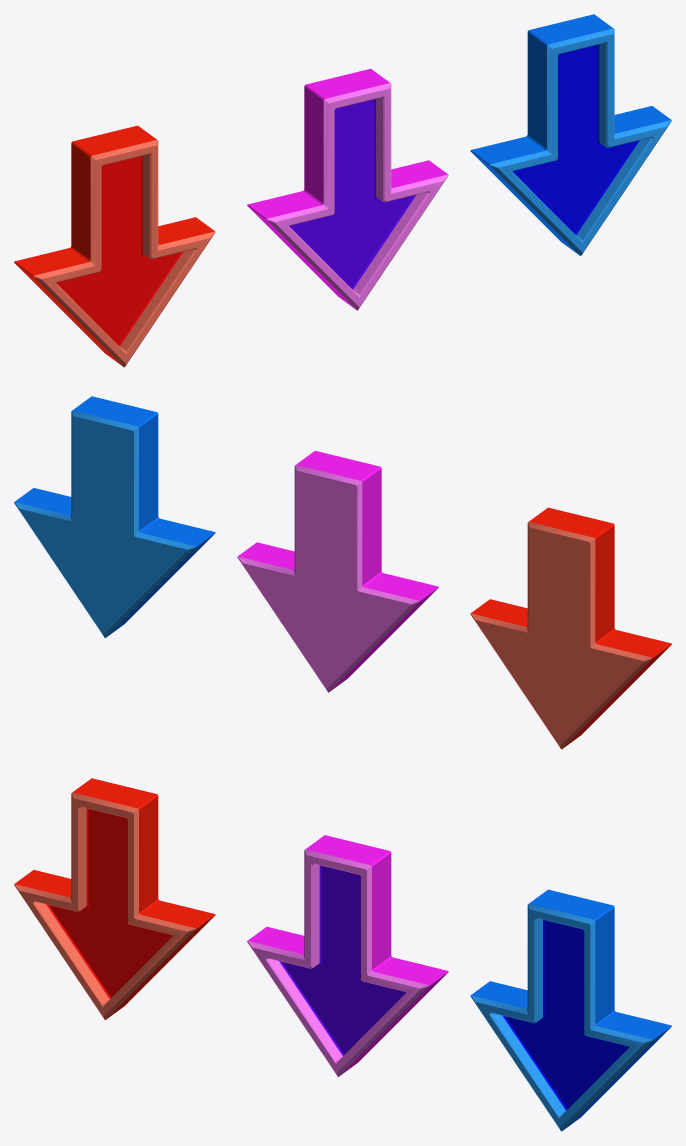
The model's file is arrows 1.FBX.
3 renders of one model, top to bottom at view 1: azimuth 30°, elevation 25°; view 2: azimuth 150°, elevation 25°; view 3: azimuth 330°, elevation 25°, orthographic.
Parts seen in each view (by area): view 1: Line002, Line003, Line001; view 2: Line002, Line003, Line001; view 3: Line001, Line003, Line002.
Part boxes in pixels (x1=…): Line002: x1=470, y1=14, x2=671, y2=255; Line003: x1=14, y1=125, x2=215, y2=367; Line001: x1=247, y1=68, x2=448, y2=310; Line002: x1=14, y1=396, x2=215, y2=637; Line003: x1=470, y1=507, x2=671, y2=749; Line001: x1=237, y1=450, x2=438, y2=692; Line001: x1=247, y1=835, x2=448, y2=1076; Line003: x1=14, y1=778, x2=215, y2=1019; Line002: x1=470, y1=889, x2=671, y2=1131.
Size of the model in its own units: 190 by 62.41 by 12.
